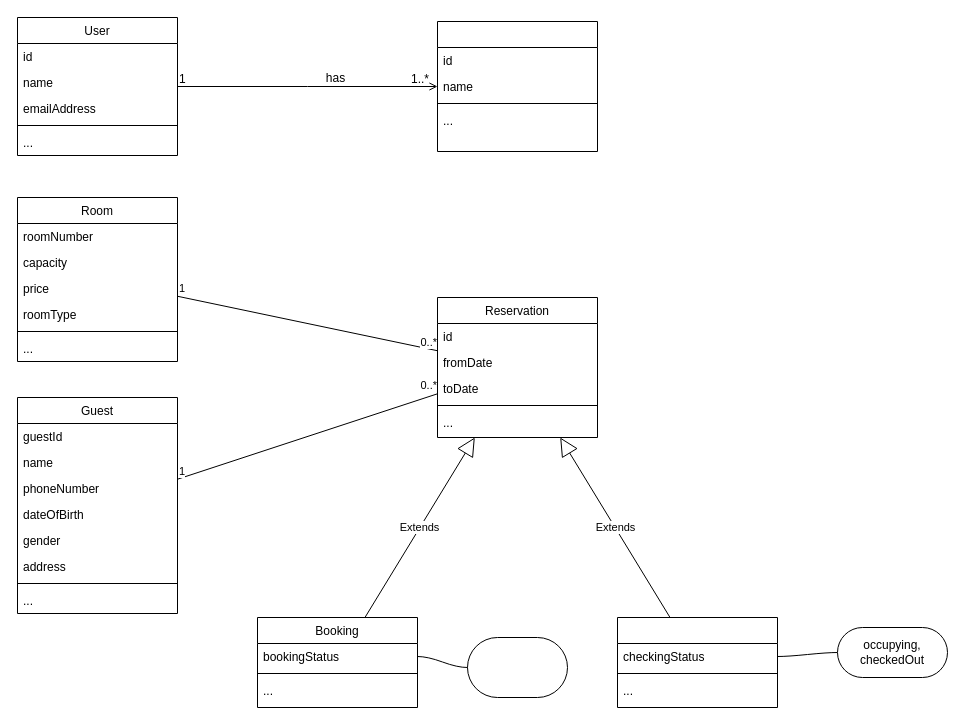
Image size: 965x725. Some labels were removed from this diagram. Here are the shapes that lost their labels. From the top down, the box of each, then its label:
(436, 20, 598, 152): Role
(466, 636, 568, 698): open, completed, canceled
(616, 616, 778, 708): CheckInDetail
